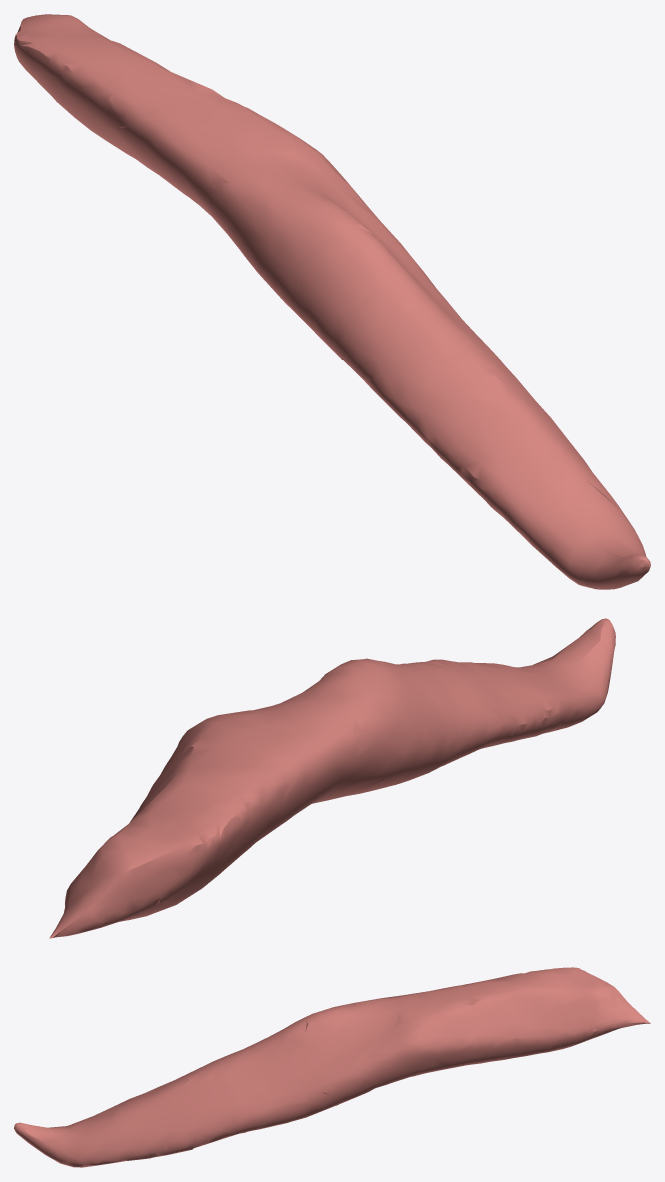
The model's file is fma46019_mm1728.glb.
The picture shows the model from 3 angles, top to bottom: view 1: azimuth 30°, elevation 25°; view 2: azimuth 150°, elevation 25°; view 3: azimuth 270°, elevation 25°; orthographic projection. The views are drawn at different scales.
Visible parts, largest first — view 1: FMA46019_MM1728; view 2: FMA46019_MM1728; view 3: FMA46019_MM1728.
Boxes of the visible parts, x1=… form: FMA46019_MM1728: x1=14, y1=14, x2=650, y2=589; FMA46019_MM1728: x1=49, y1=618, x2=615, y2=938; FMA46019_MM1728: x1=14, y1=967, x2=650, y2=1167.
Size of the model in its own units: 0.0181 by 0.0216 by 0.0826.
